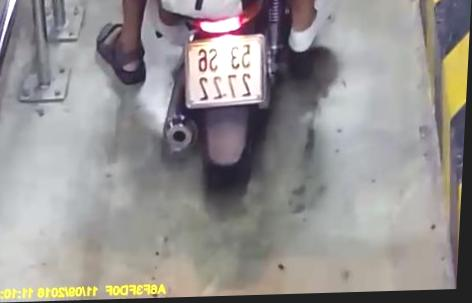License_Plate: (177, 30, 275, 120)
